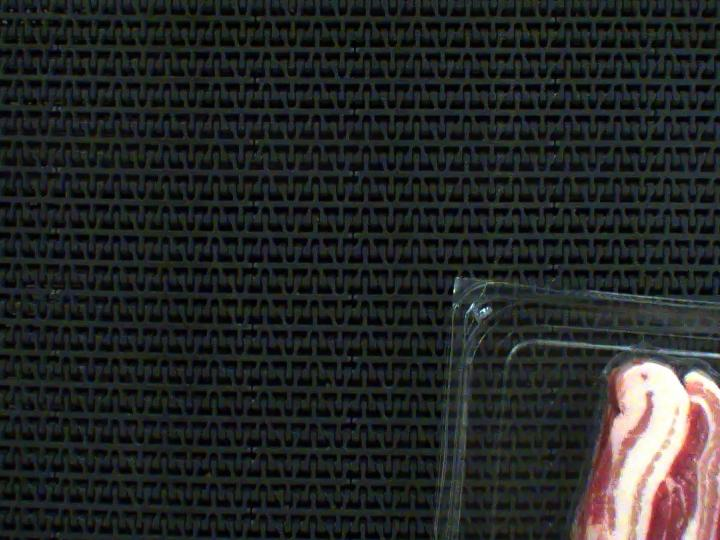unsealed: (543, 353, 720, 540)
